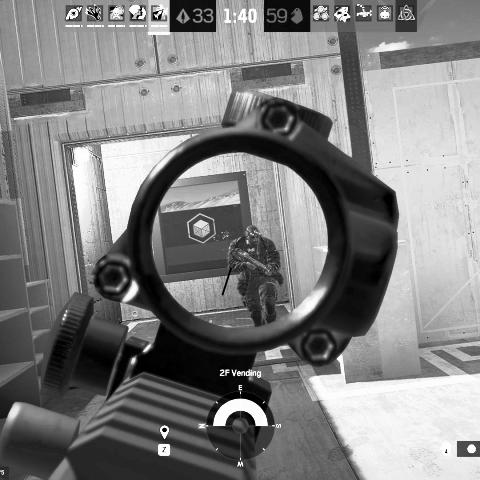Character: (228, 224, 284, 330)
Head: (246, 225, 260, 247)
